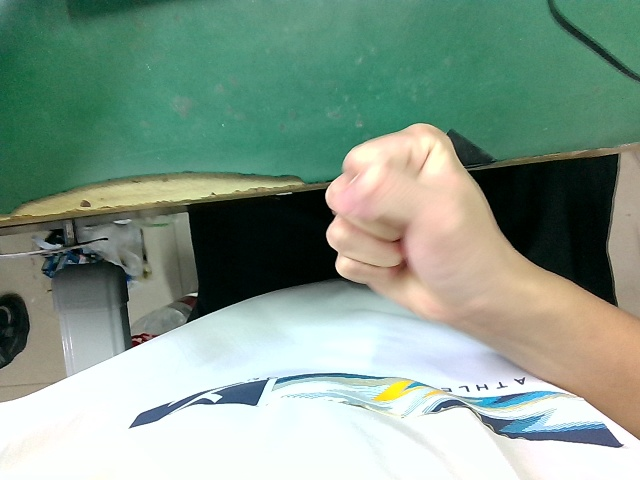stone: (319, 112, 529, 339)
